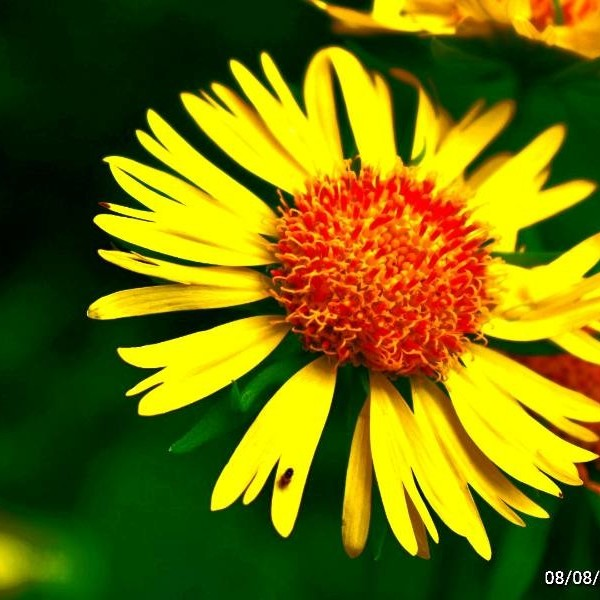obstacle: (101, 41, 549, 543)
